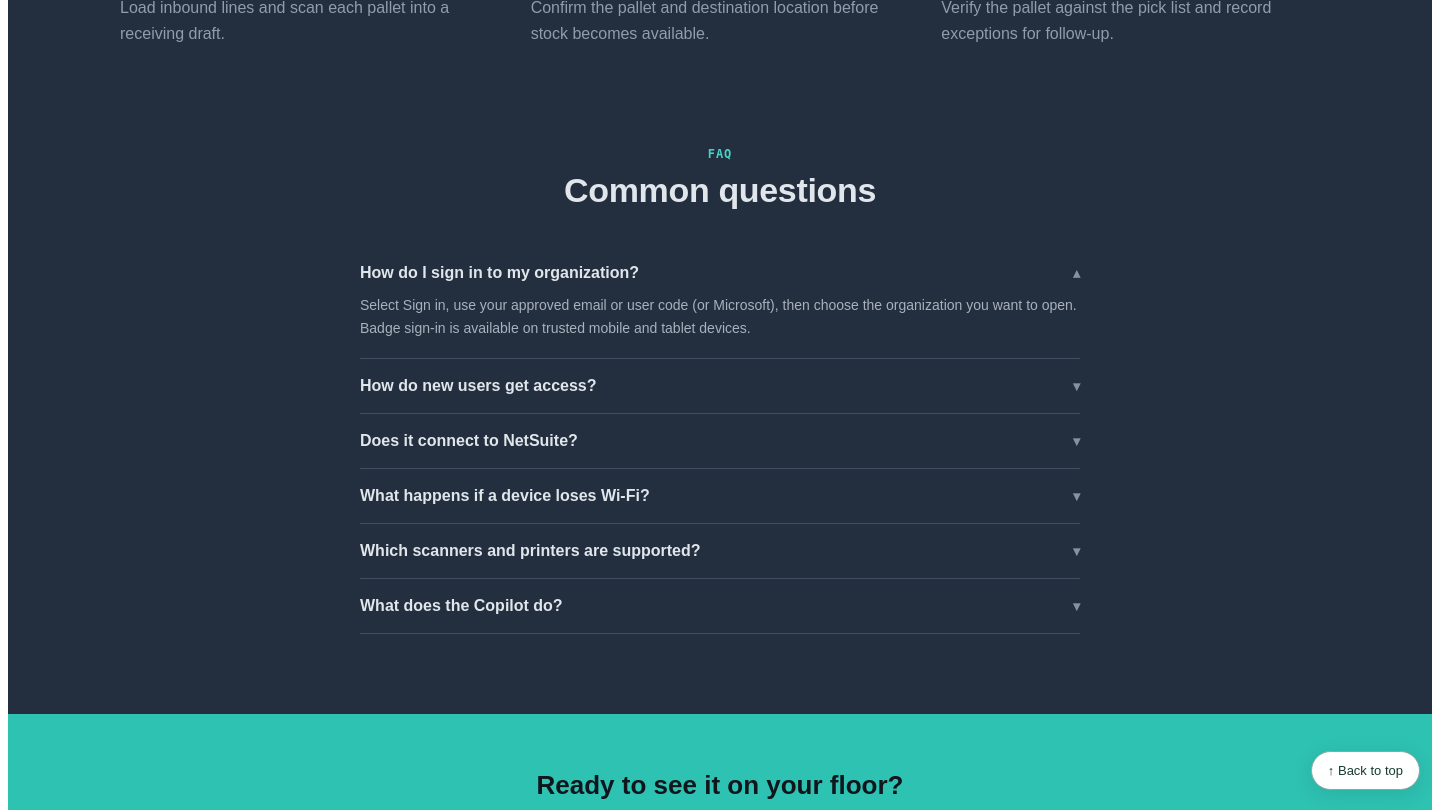
Test: landing page › connects FAQ questions to their expandable answers
This screenshot has width=1440, height=810.
(page scrolled)
Click the button "Does it connect to NetSuite? ▾".
click(469, 440)  # box [360,432,1080,450]
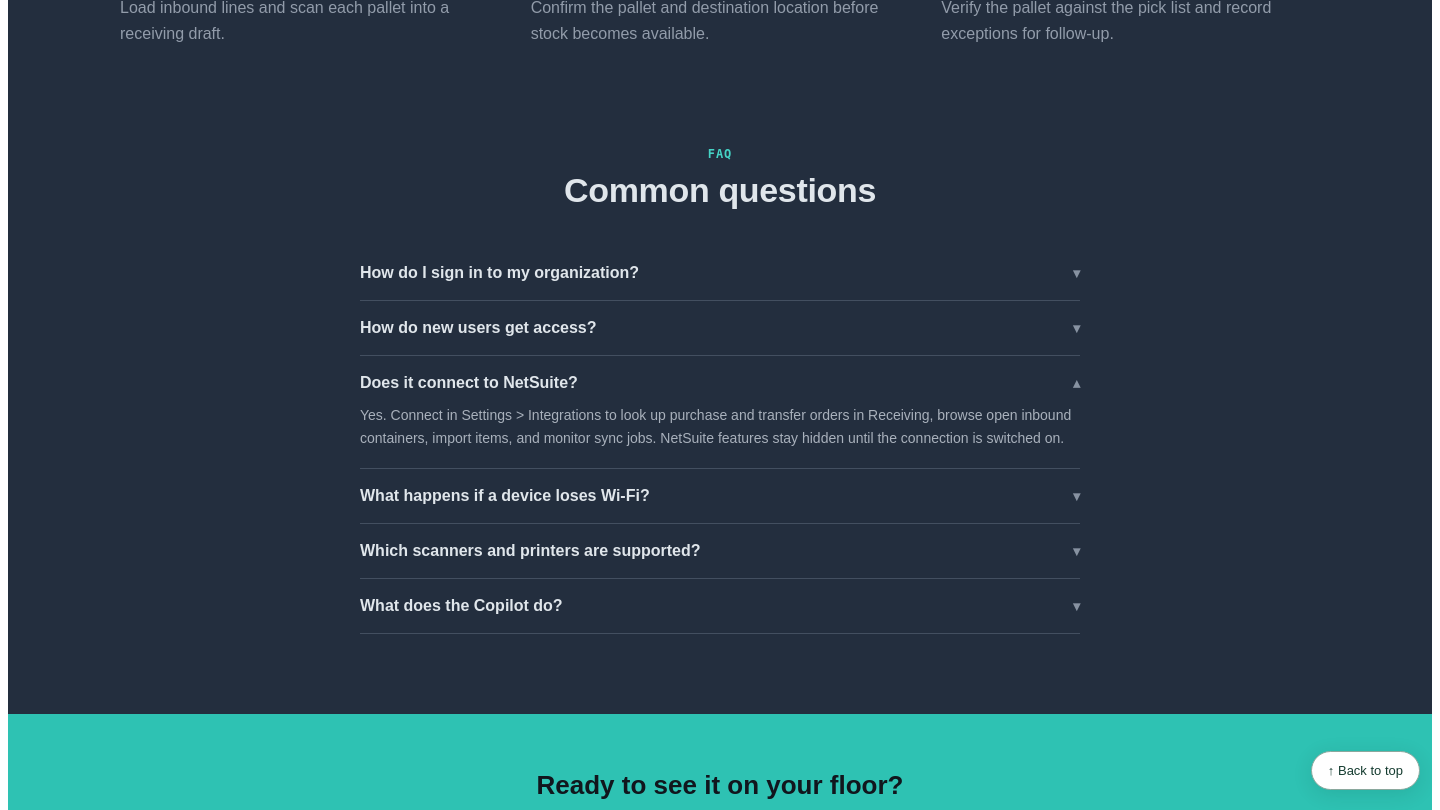
Now the button "Does it connect to NetSuite? ▴" is expanded, box [360,374,1080,392]
